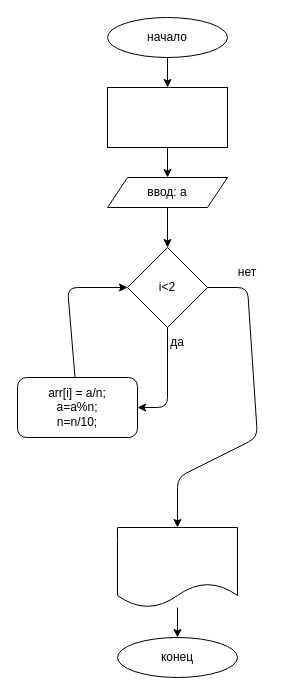
Image size: 295x695. Some labels were removed from this diagram. Here are the shapes that lost their labels. From the top down, the centre of each, then its label:
At [167,117]: "a=0; i=0; n=100; arr[2];".
At [177,567]: "вывод: arr[1]".
